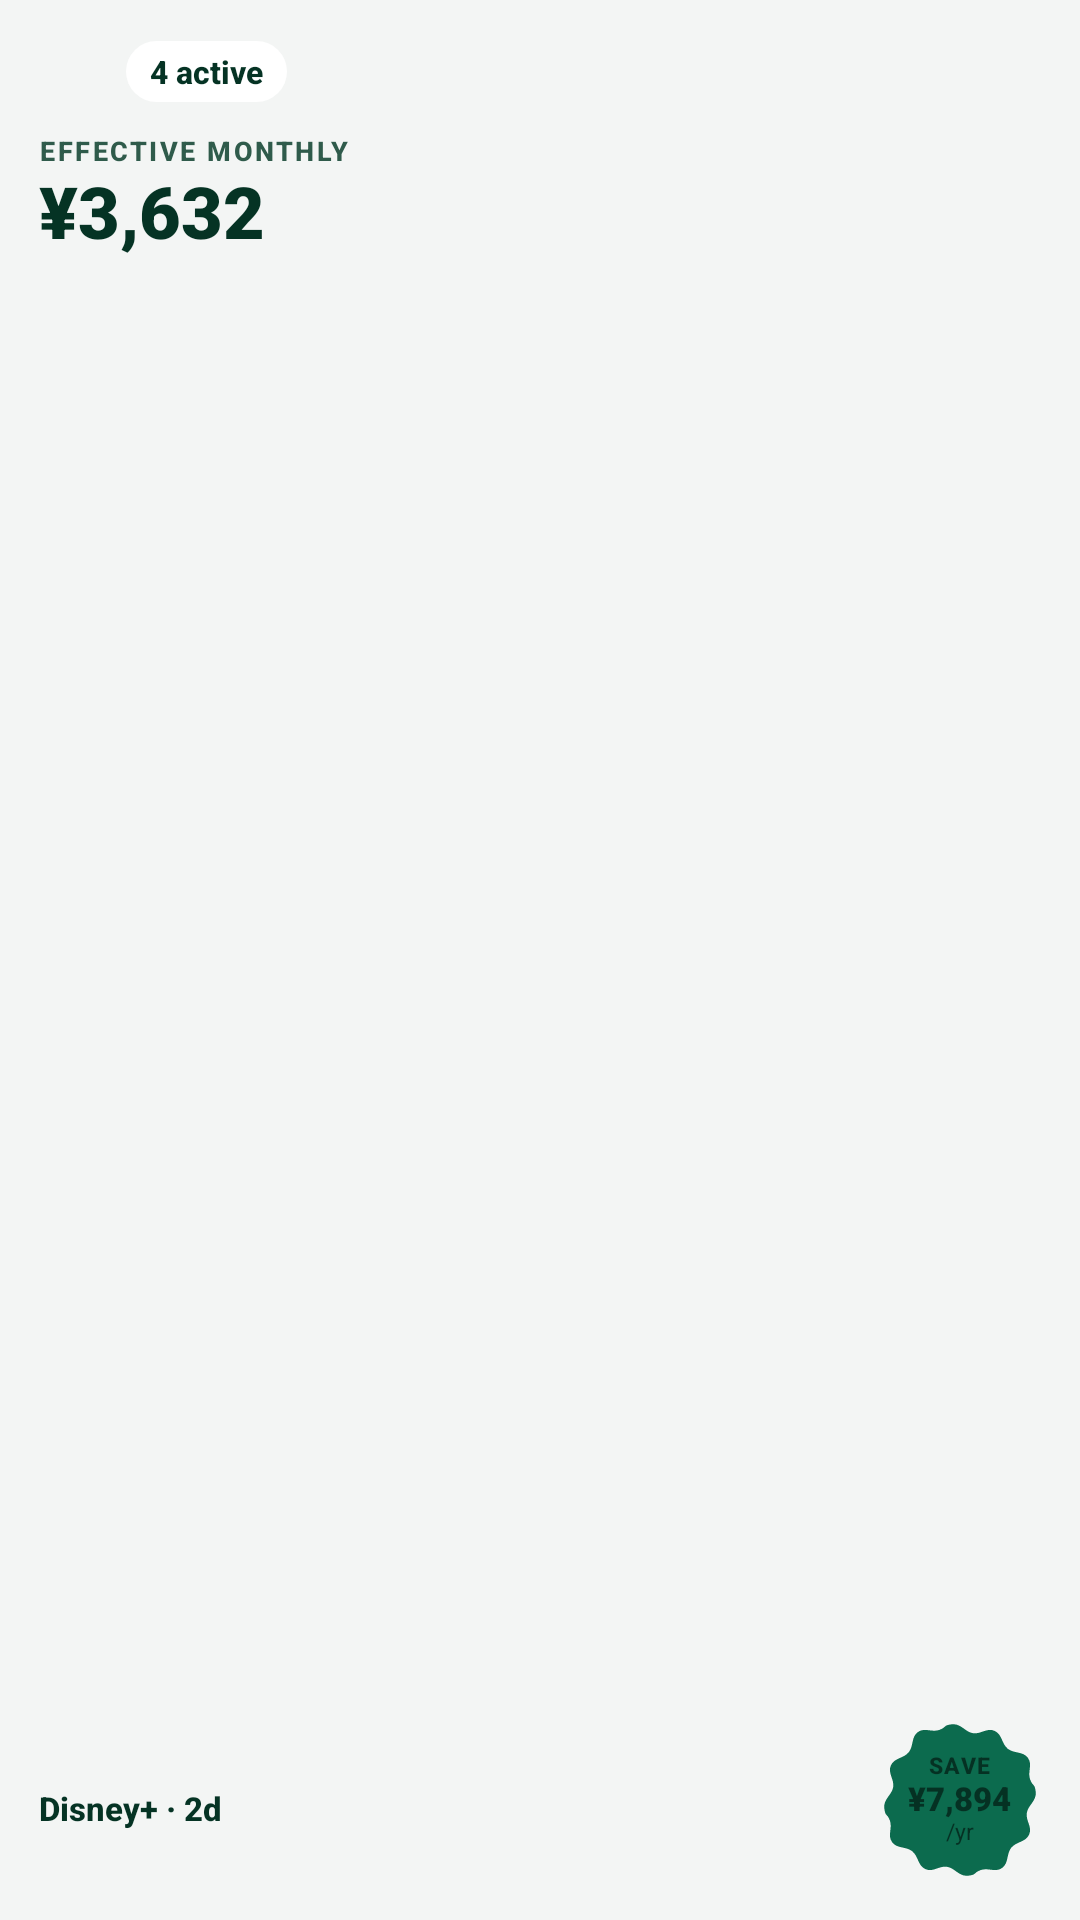

Named icons in this screenshot (1080px x 1920px) and their centers, point (x, y):
widget cookie seal: point (960, 1800)
